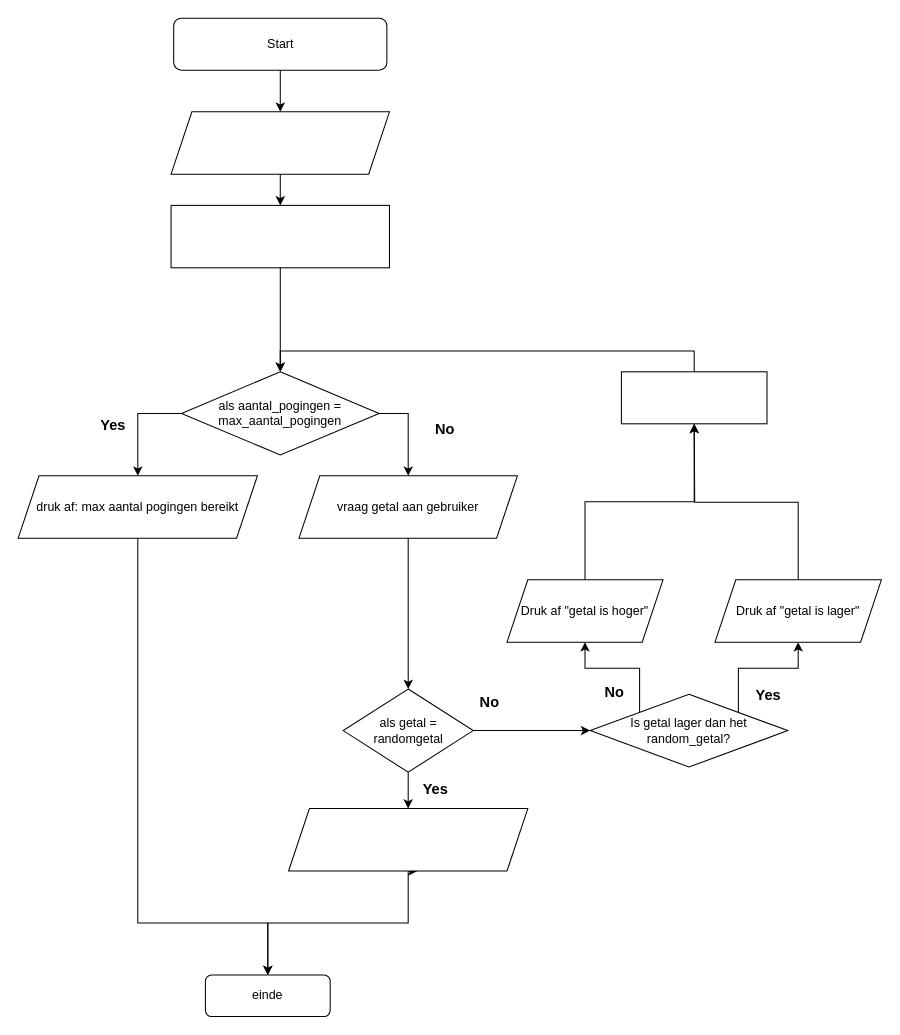
Some shapes in this 900 by 1035 pixel diagram are drawn without their labels. Here are the shapes that lost their labels. From the top down, the centre of each, then its label:
At pixel 279 142: "Vraag max_aantal_pogingen aan de gebruiker".
At pixel 279 236: "generaar random getal initialiseer aantal pogingen op 0".
At pixel 693 397: "verhoog het aantal_pogingen met 1".
At pixel 408 839: "druk af: getal gevonden".
